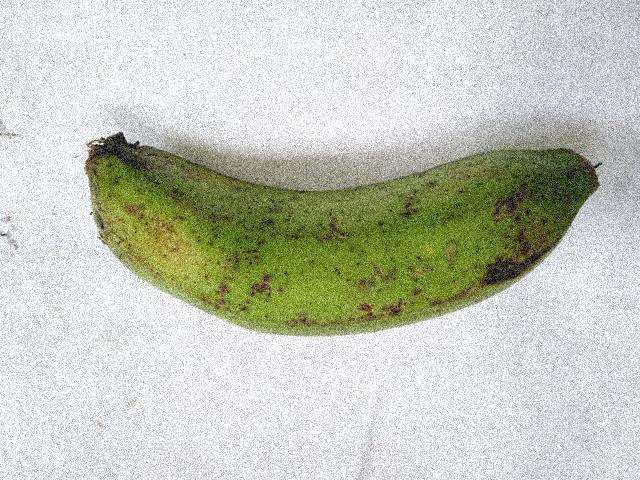unripe: (71, 120, 600, 347)
